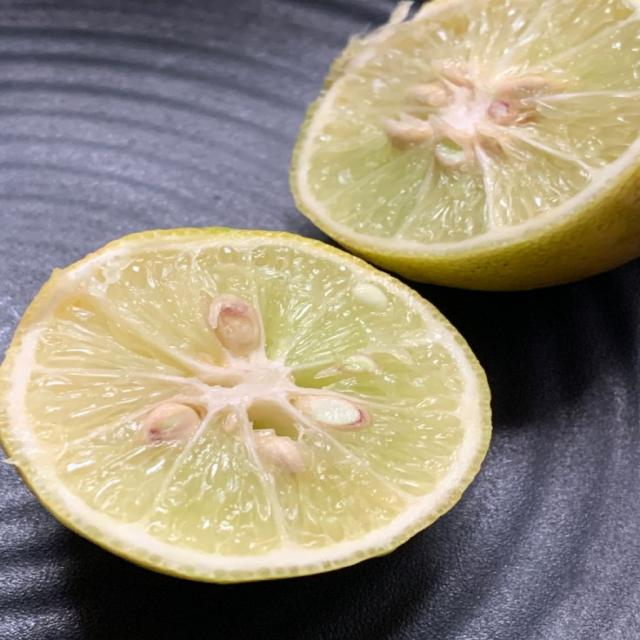lemon: (0, 229, 490, 581), (292, 0, 639, 289)
